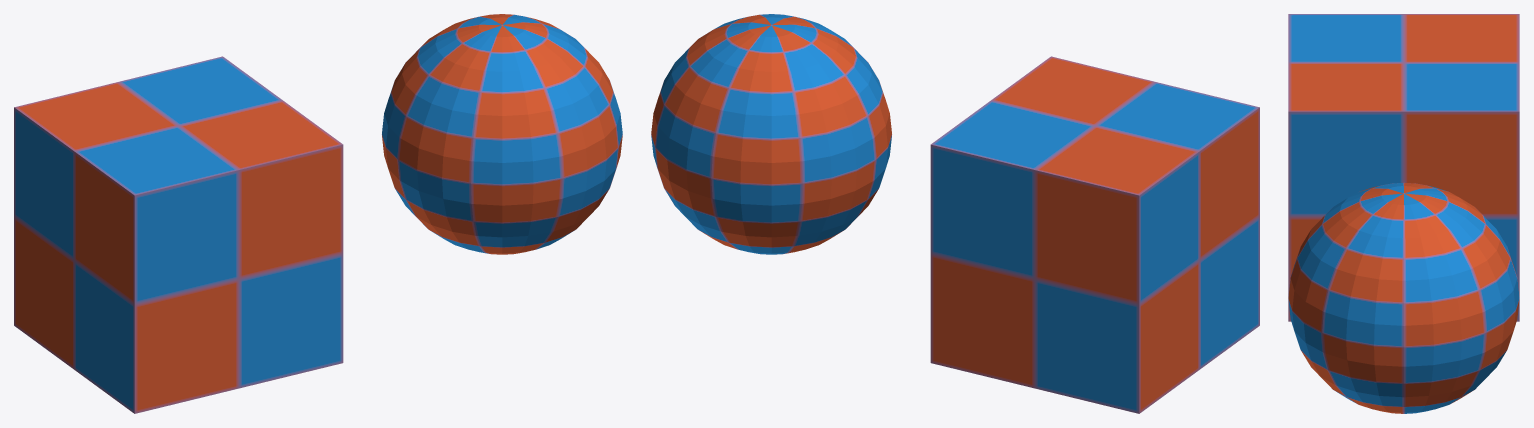
Rendered from sample.glb.
The picture shows the model from 3 angles, left to right: view 1: azimuth 30°, elevation 25°; view 2: azimuth 150°, elevation 25°; view 3: azimuth 270°, elevation 25°; orthographic projection. The views are drawn at different scales.
Parts seen in each view (by area): view 1: TexturedCube, ShadedSphere; view 2: TexturedCube, ShadedSphere; view 3: TexturedCube, ShadedSphere.
Boxes of the visible parts, <box> form: TexturedCube: <box>14,56,343,413</box>; ShadedSphere: <box>382,14,622,254</box>; TexturedCube: <box>930,56,1259,413</box>; ShadedSphere: <box>651,14,891,254</box>; TexturedCube: <box>1288,14,1519,321</box>; ShadedSphere: <box>1288,182,1519,413</box>.
Size of the model in its own units: 5.1 by 2.2 by 2.
1 material, 1 textured.
